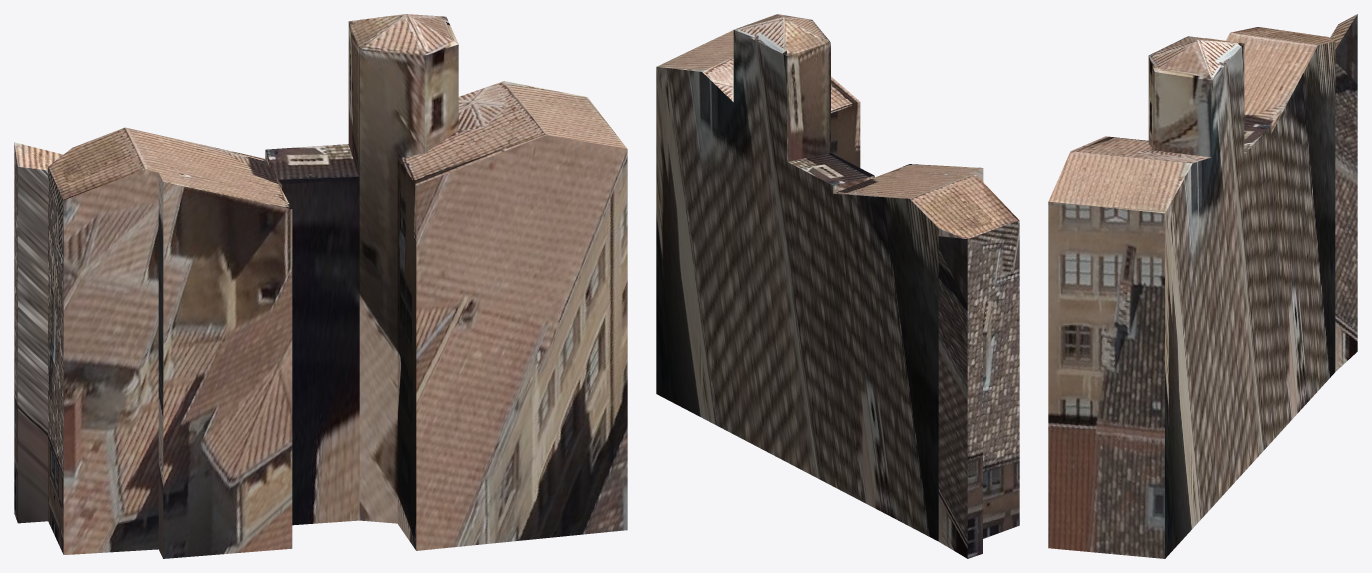
3 views of the same model, side by side, from view 1: azimuth 30°, elevation 25°; view 2: azimuth 150°, elevation 25°; view 3: azimuth 270°, elevation 25° (orthographic). The views are drawn at different scales.
Visible parts, largest first — view 1: Z_UP; view 2: Z_UP; view 3: Z_UP.
Part boxes in pixels (left/top/right/bottom): Z_UP: left=14, top=14, right=627, bottom=558; Z_UP: left=656, top=14, right=1019, bottom=558; Z_UP: left=1048, top=14, right=1357, bottom=558.
Bounding box in the file's own units: 22.17 × 21.91 × 13.76.
2 materials, 1 textured.
